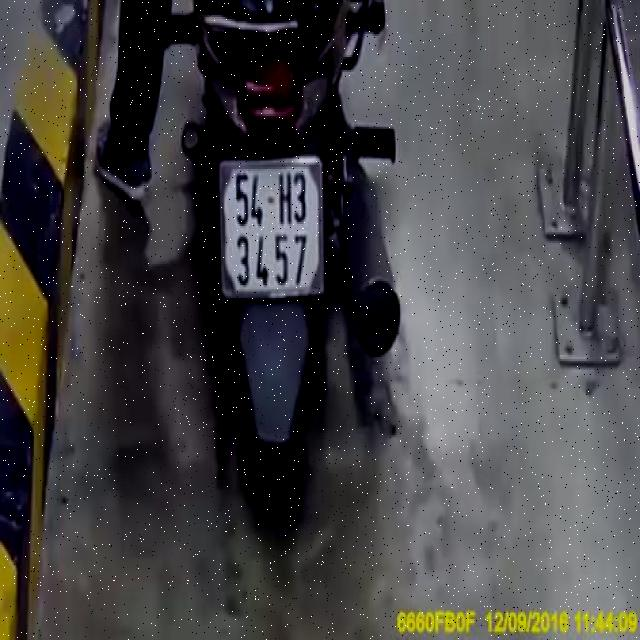3: (235, 231, 251, 290), (294, 169, 308, 226)
4: (252, 230, 271, 289), (250, 170, 266, 227)
5: (271, 231, 290, 285), (234, 170, 248, 227)
7: (292, 234, 313, 287)
H: (277, 169, 295, 228)
